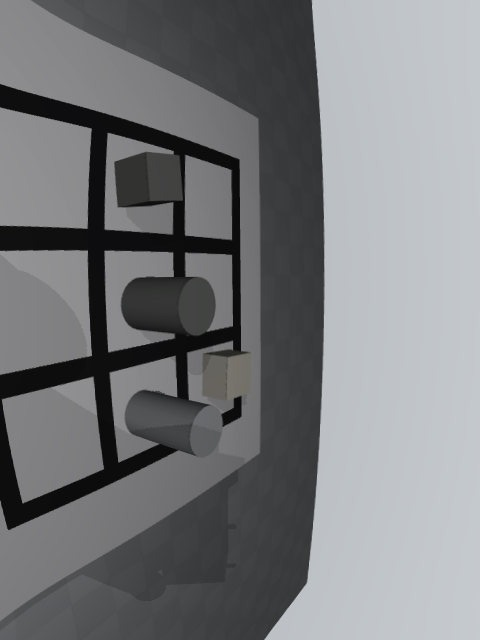can: (124, 390, 223, 458)
cube: (114, 151, 183, 207)
cylinder: (121, 277, 216, 335)
foam: (202, 349, 252, 400)
